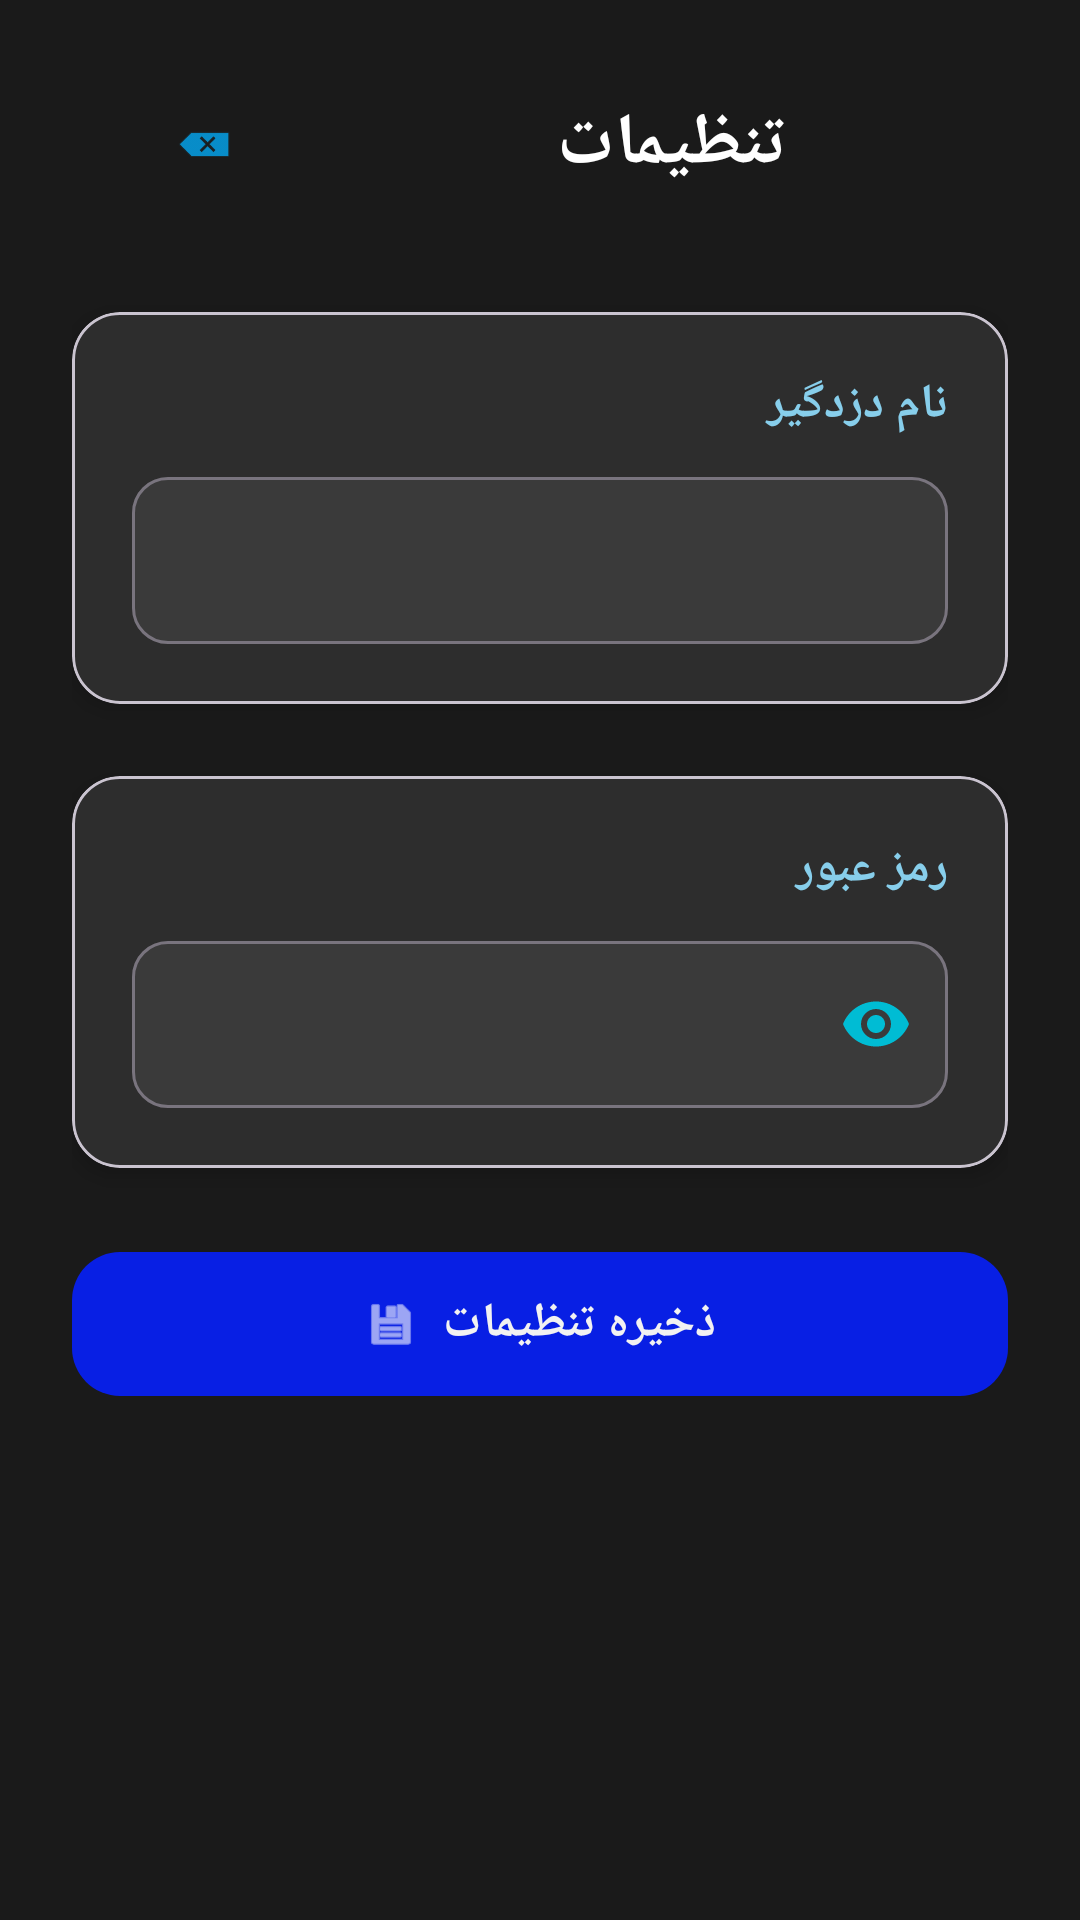

Icon bounding boxes for this 1080px x 1920px phone screenshot, format (x1, y1, x2, y2):
delete: (180, 132, 229, 157)
